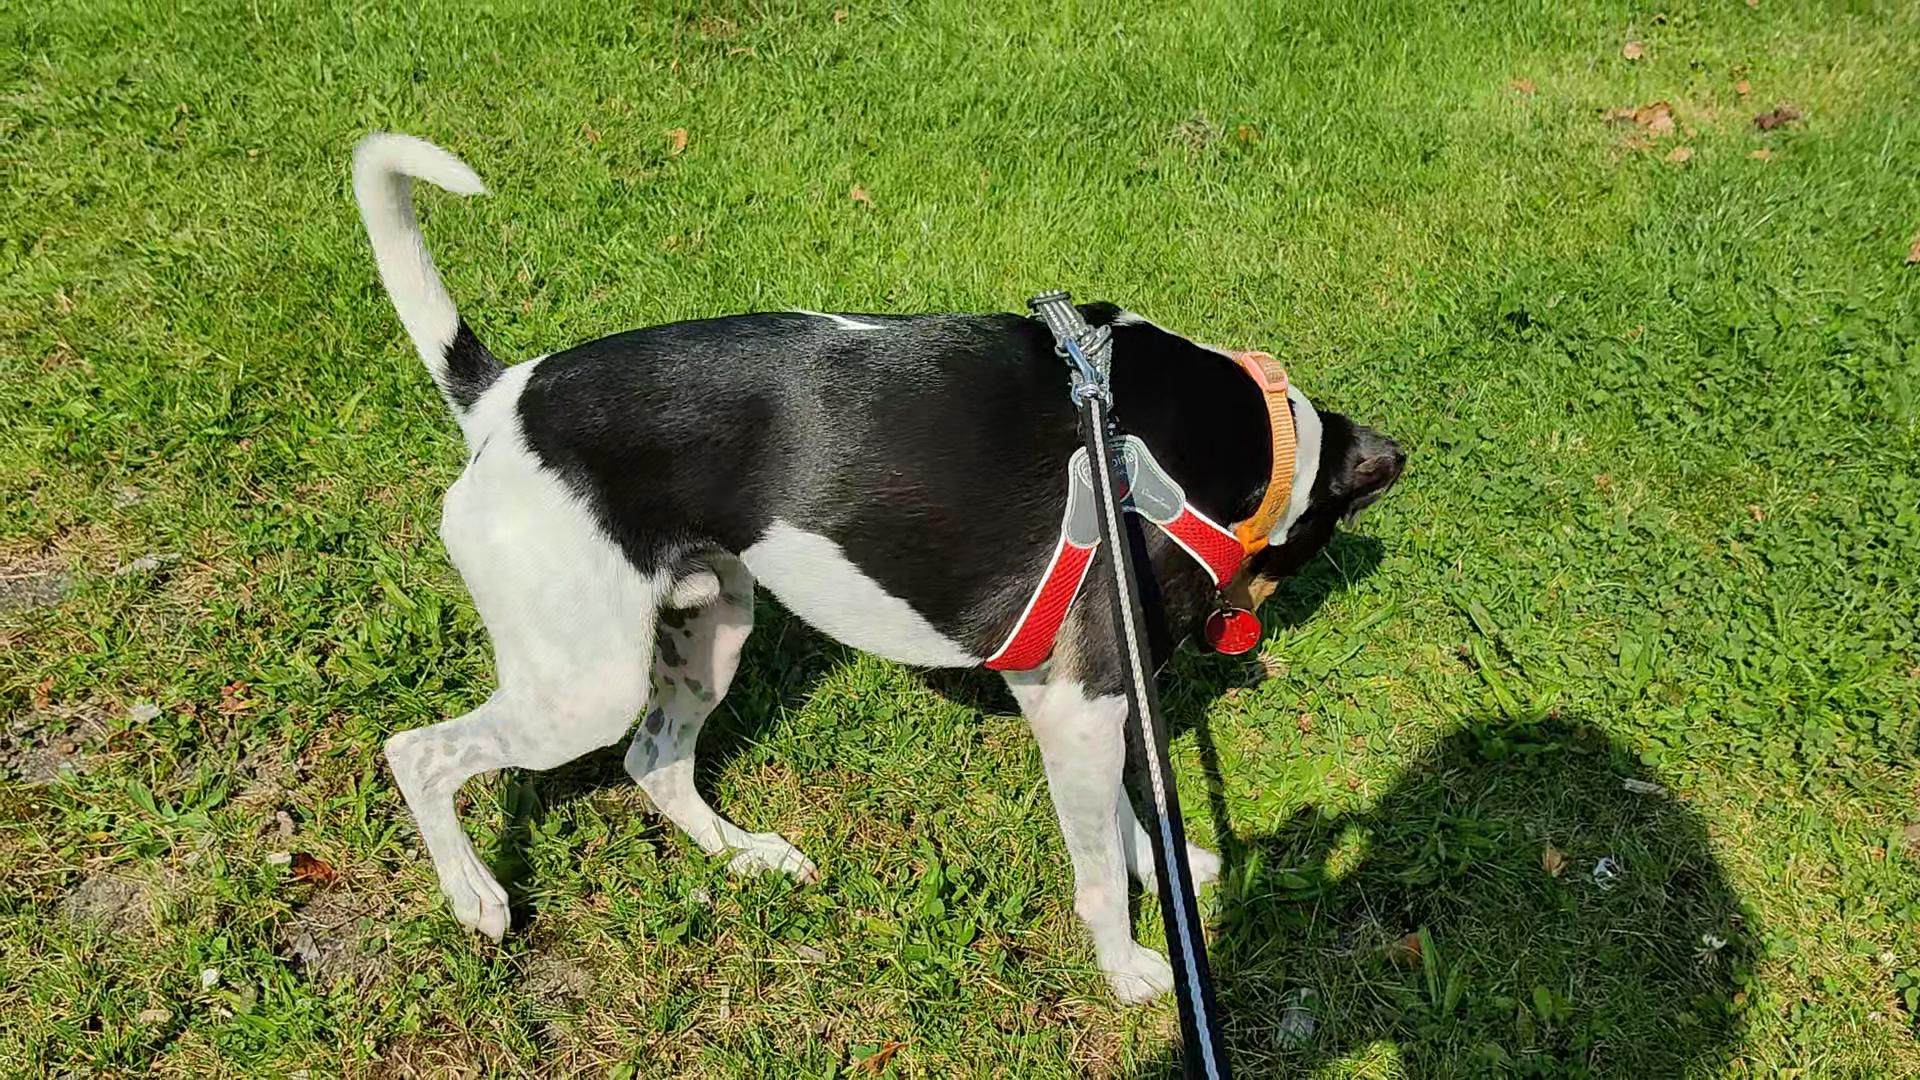Dog: (324, 95, 1423, 1013)
